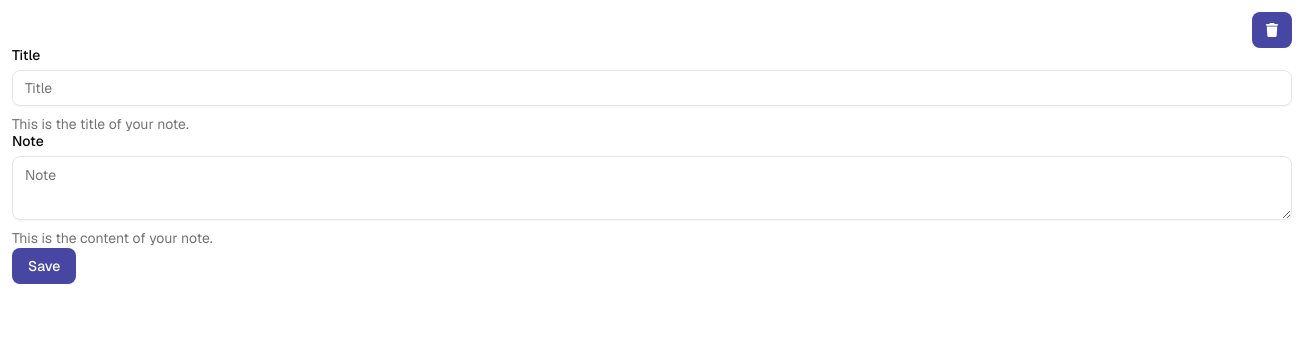
Scenario: NoteForm › shows validation error for short title
Step 1. Type "a" into the field with placeholder "Title" → (652, 88), box [12,70,1292,106]
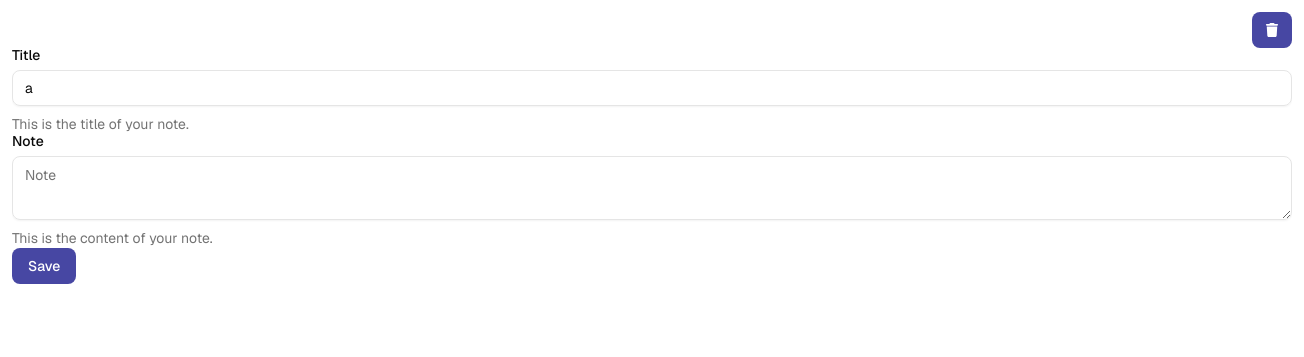
Step 2. Type "b" into the text box with placeholder "Note" → (652, 188), box [12,156,1292,220]
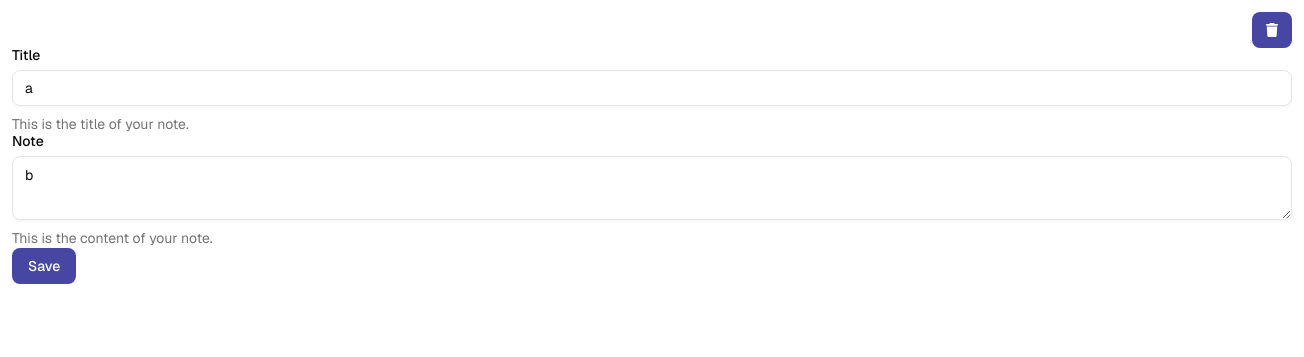
Step 3. Click the button "Save" → (44, 266), box [12,248,76,284]
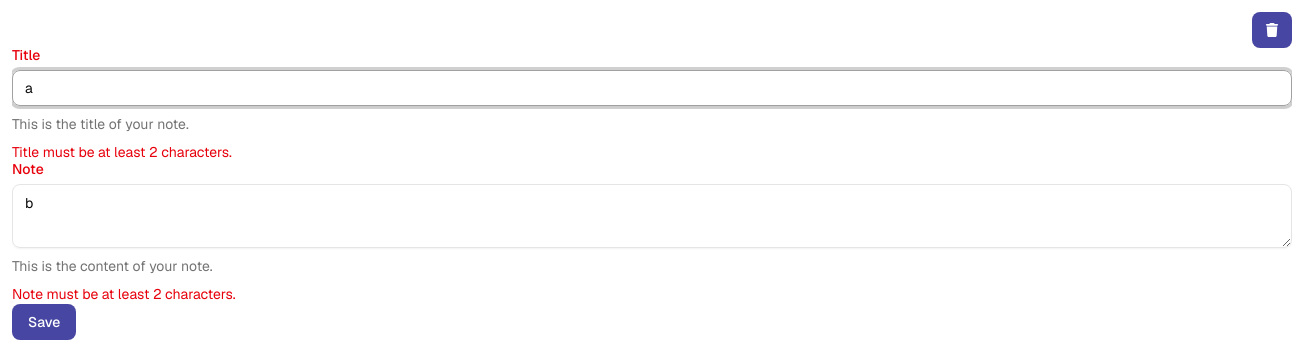
Result: the text "Title must be at least 2 characters." is shown at [12,143,232,161]
Result: the text "Note must be at least 2 characters." is shown at [12,285,236,303]
